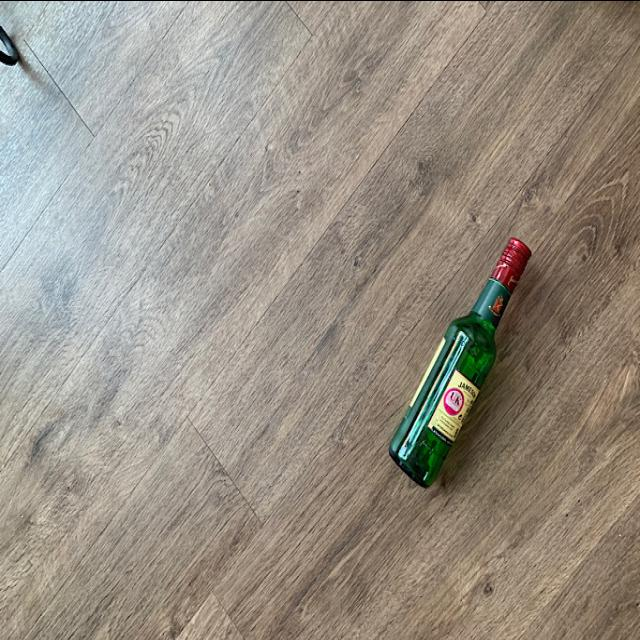Glass Bottle: (385, 235, 535, 494)
